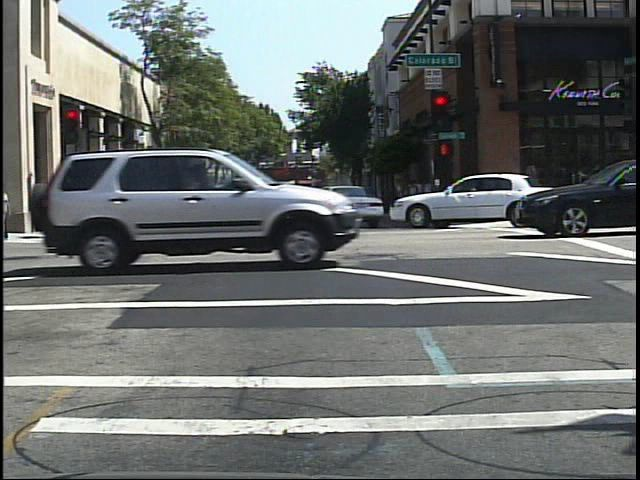person: (118, 181, 137, 222)
